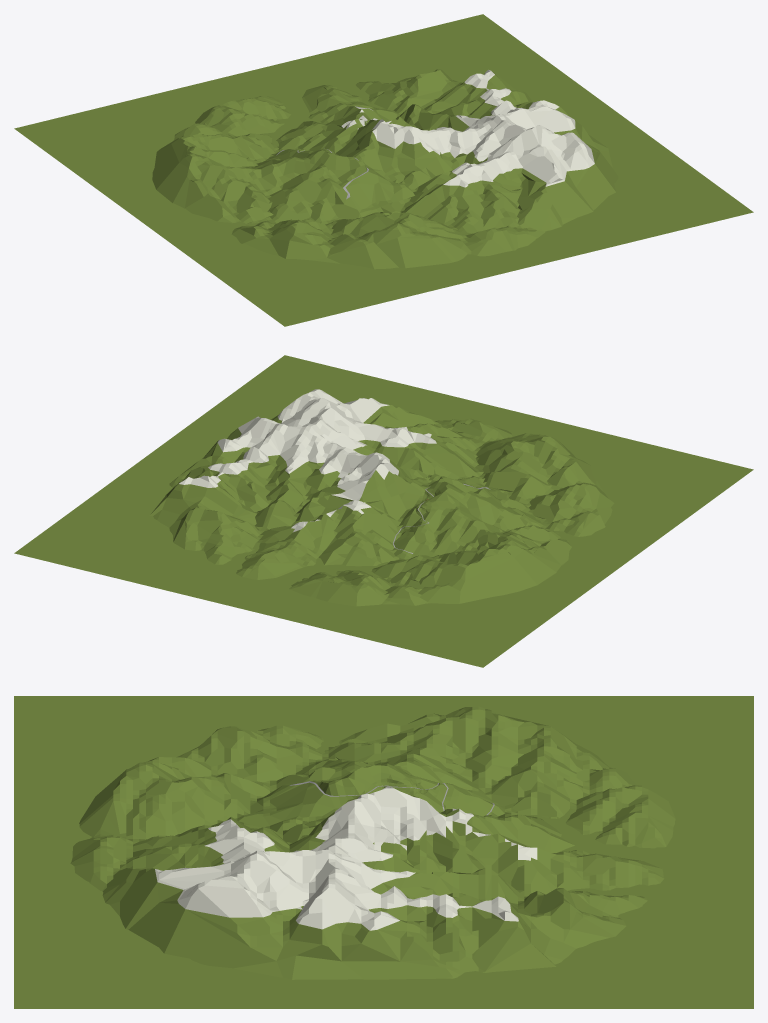
File: soliru-mountains-house-4097.fbx
The picture shows the model from 3 angles, top to bottom: view 1: azimuth 30°, elevation 25°; view 2: azimuth 150°, elevation 25°; view 3: azimuth 270°, elevation 25°; orthographic projection. The views are drawn at different scales.
Parts seen in each view (by area): view 1: Mountains; view 2: Mountains; view 3: Mountains.
Boxes of the visible parts, x1,y1,x2,y2 form: Mountains: (14, 14, 753, 326); Mountains: (14, 355, 753, 667); Mountains: (14, 696, 753, 1008).
Bounding box in the file's own units: 4097 × 506 × 4097.
